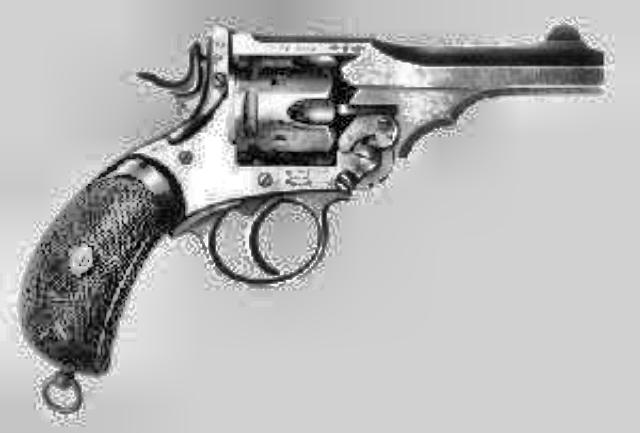pistol: (15, 22, 601, 366)
